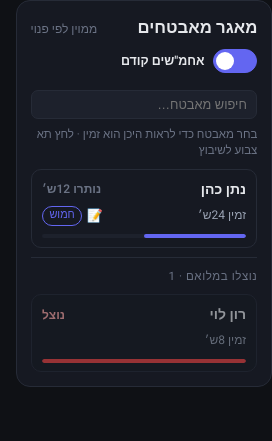
GuardPool › shows the note only after clicking the note button
Expected: the text "עדיפות לבקרים" is not shown
Click the button named "הערת המאבטח" at (95, 216), box top-left (87, 210), bottom-right (103, 222)
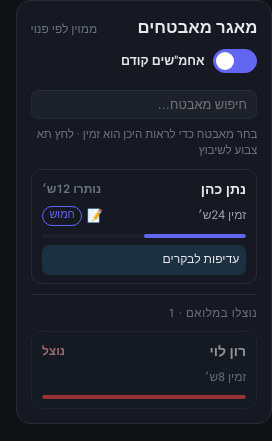
Expected: the text "עדיפות לבקרים" is shown, top-left (42, 245), bottom-right (246, 275)
